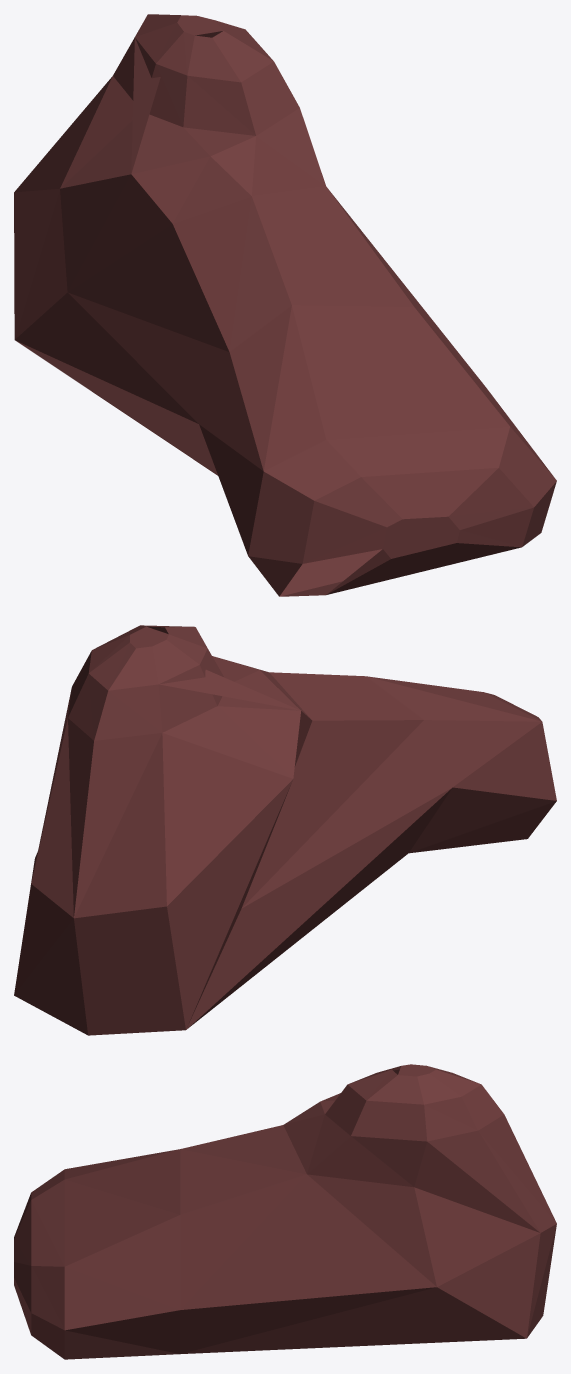
File: LFoot_mesh.dae
3 renders of one model, top to bottom at view 1: azimuth 30°, elevation 25°; view 2: azimuth 150°, elevation 25°; view 3: azimuth 270°, elevation 25°, orthographic. The views are drawn at different scales.
Parts seen in each view (by area): view 1: LFoot; view 2: LFoot; view 3: LFoot.
Part boxes in pixels (box(x1,y1,x2,y2)): LFoot: box(14, 14, 556, 596); LFoot: box(14, 625, 556, 1035); LFoot: box(14, 1064, 556, 1359).
Size of the model in its own units: 0.1 by 0.1062 by 0.2055.
